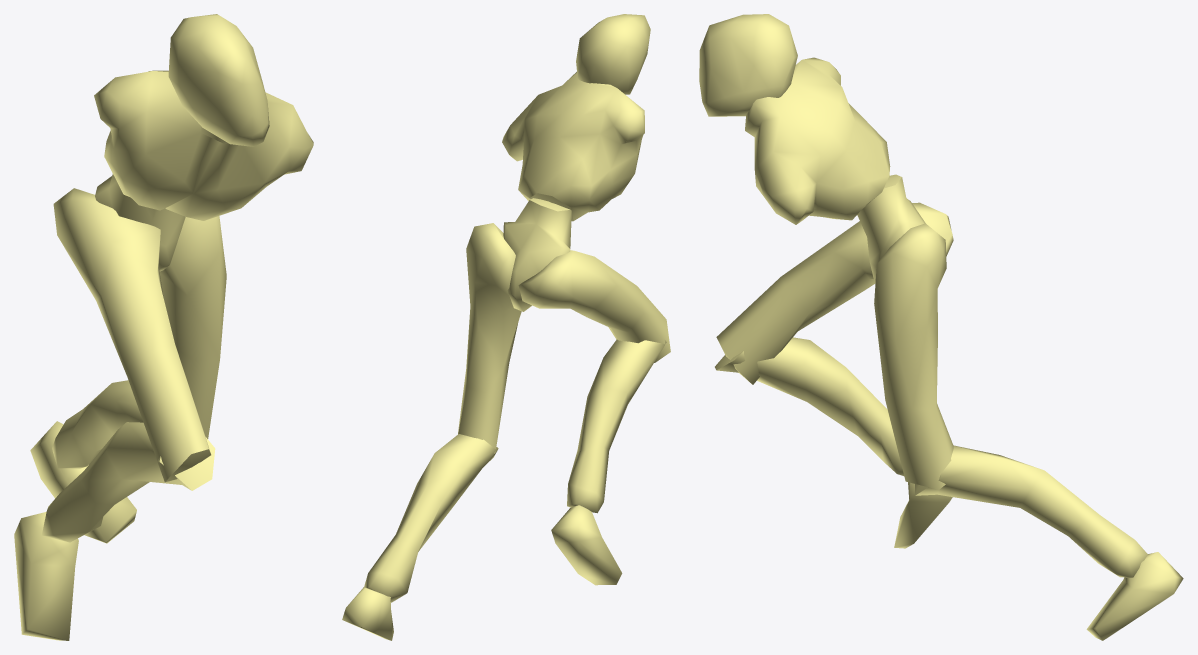
File: filth31.obj
The picture shows the model from 3 angles, left to right: view 1: azimuth 30°, elevation 25°; view 2: azimuth 150°, elevation 25°; view 3: azimuth 270°, elevation 25°; orthographic projection. The views are drawn at different scales.
Visible parts, largest first — view 1: Melee_Husk; view 2: Melee_Husk; view 3: Melee_Husk.
Part boxes in pixels (left/top/right/bottom): Melee_Husk: left=14, top=14, right=313, bottom=640; Melee_Husk: left=342, top=14, right=670, bottom=640; Melee_Husk: left=699, top=14, right=1183, bottom=640.
Size of the model in its own units: 22.15 by 64.66 by 49.05.
